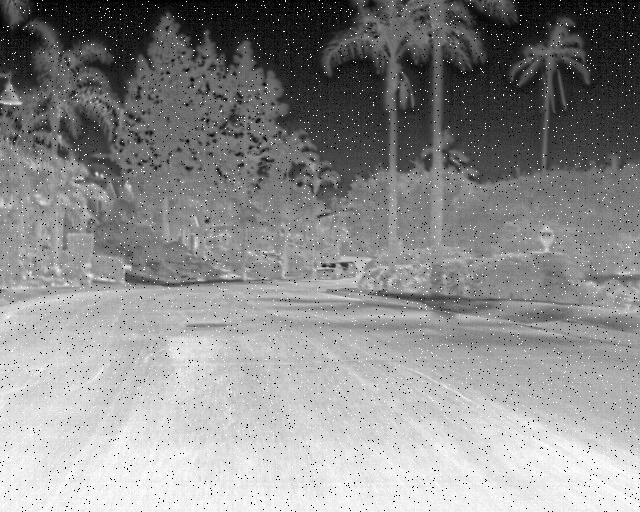car: (314, 259, 361, 285), (333, 253, 359, 285)
